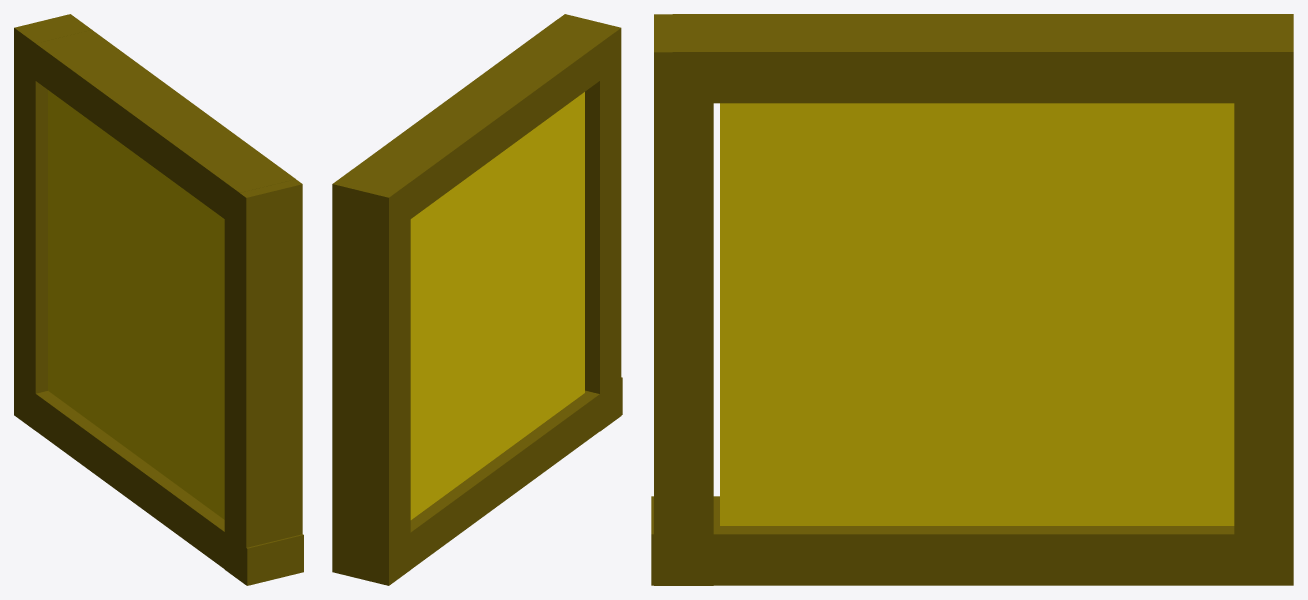
The model's file is yellowp paint.fbx.
The picture shows the model from 3 angles, left to right: view 1: azimuth 30°, elevation 25°; view 2: azimuth 150°, elevation 25°; view 3: azimuth 270°, elevation 25°; orthographic projection. The views are drawn at different scales.
Visible parts, largest first — view 1: Cube, Cube.002, Cube.001, Cube.004, Cube.003; view 2: Cube, Cube.004, Cube.001, Cube.002, Cube.003; view 3: Cube, Cube.001, Cube.003, Cube.004, Cube.002.
Part boxes in pixels (x1,y1,x2,y2): Cube: (48,90,224,519); Cube.002: (224,179,302,585); Cube.001: (15,28,295,229); Cube.004: (14,14,91,430); Cube.003: (23,385,303,585); Cube: (410,92,584,519); Cube.004: (332,168,410,585); Cube.001: (354,19,614,233); Cube.002: (559,14,621,431); Cube.003: (397,377,622,578); Cube: (720,103,1234,525); Cube.001: (672,14,1291,103); Cube.003: (651,496,1269,585); Cube.004: (1234,14,1293,585); Cube.002: (654,14,713,585).
Bounding box in the file's own units: 34.28 × 225 × 246.
